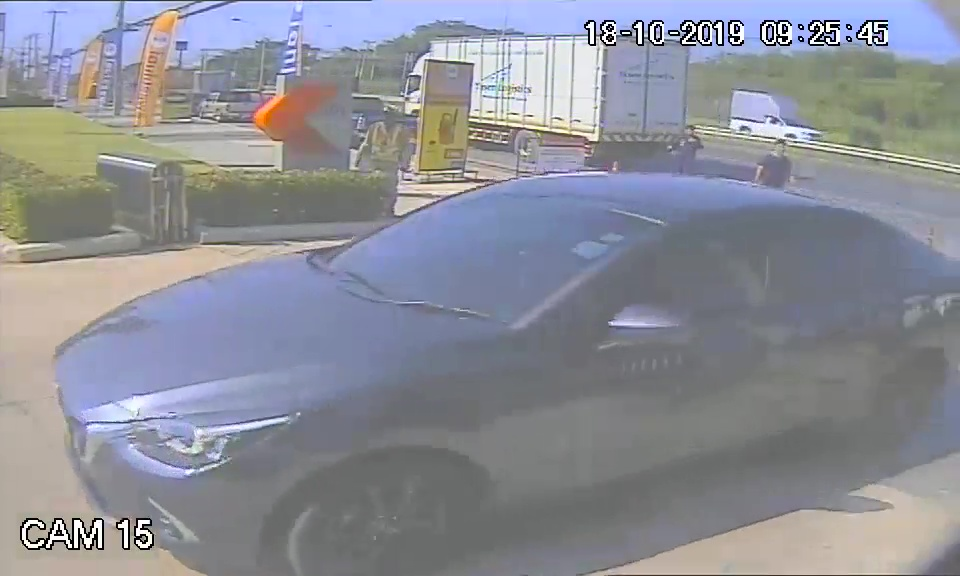sedan: (46, 174, 905, 537)
